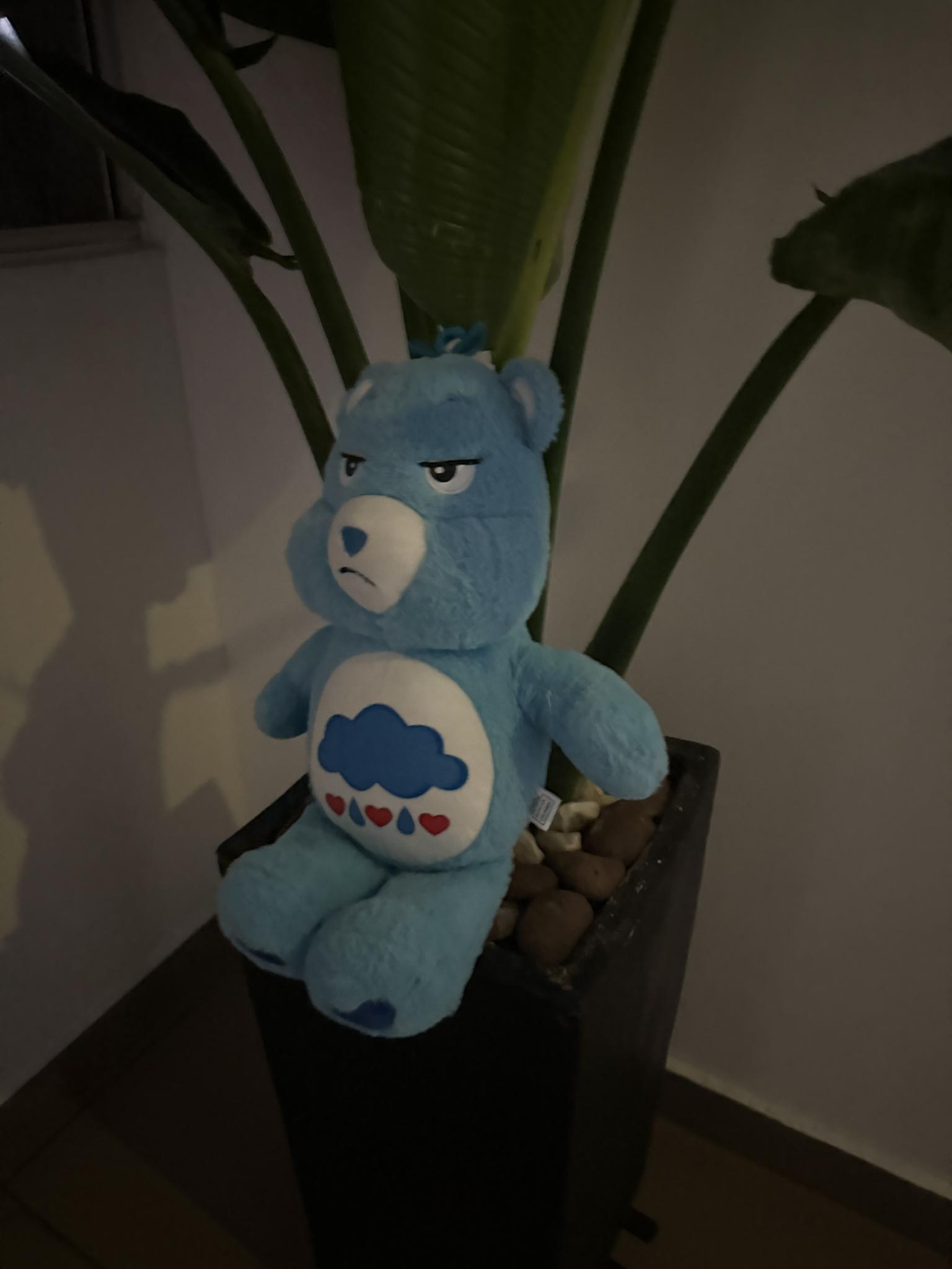peluche_Juan Jose: (207, 347, 669, 1040)
